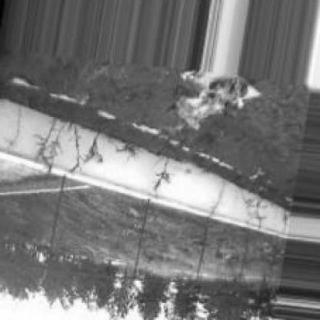Fire: (168, 80, 246, 138)
